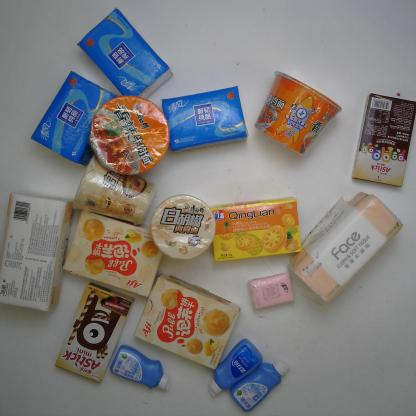Dessert: (134, 274, 240, 370), (62, 208, 166, 298), (55, 282, 134, 383), (350, 94, 416, 185), (209, 198, 302, 262)
Instant Noodles: (254, 70, 342, 155), (90, 96, 170, 175), (72, 154, 157, 226), (151, 195, 215, 259)
Personal Hygiene: (208, 338, 262, 396), (231, 359, 289, 411), (110, 344, 170, 391)
Tissue: (287, 191, 403, 304), (76, 7, 172, 105), (0, 193, 75, 311), (31, 72, 118, 166), (162, 86, 249, 152), (247, 273, 294, 309)
